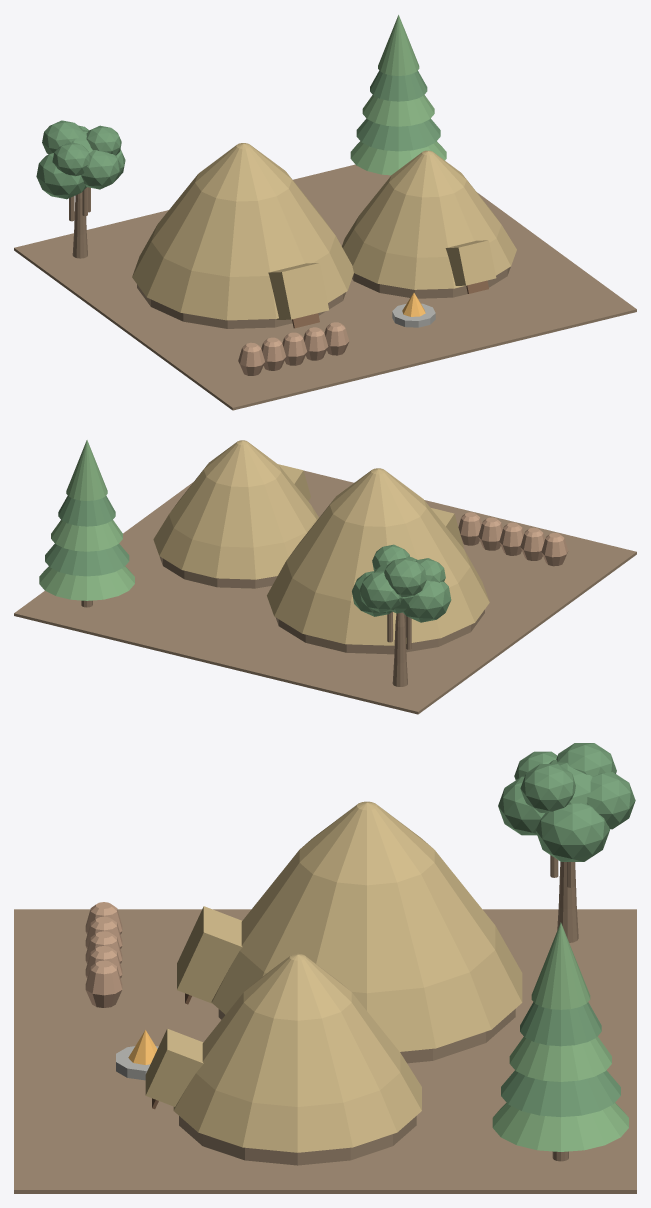
Rendered from pit-house.fbx.
The picture shows the model from 3 angles, top to bottom: view 1: azimuth 30°, elevation 25°; view 2: azimuth 150°, elevation 25°; view 3: azimuth 270°, elevation 25°; orthographic projection. The views are drawn at different scales.
Visible parts, largest first — view 1: pit-house; view 2: pit-house; view 3: pit-house.
Part boxes in pixels (left/top/right/bottom): pit-house: left=14, top=15, right=636, bottom=410; pit-house: left=14, top=440, right=636, bottom=714; pit-house: left=14, top=743, right=636, bottom=1193.
Size of the model in its own units: 962 by 382 by 900.
